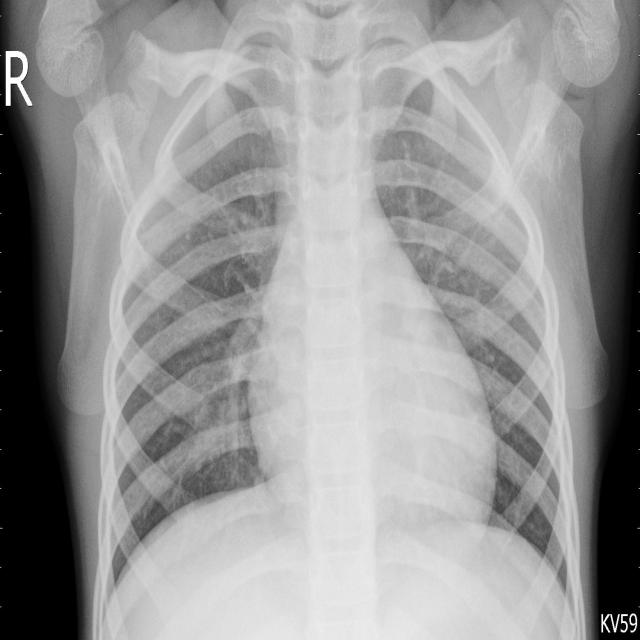no-pneumonia: (99, 51, 295, 623), (367, 46, 572, 586)
